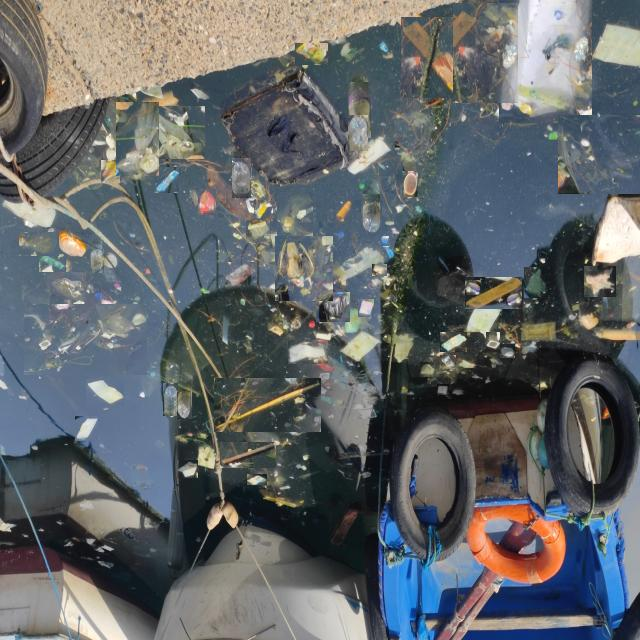Bottle cap: (94, 291, 105, 301), (308, 319, 316, 330), (381, 236, 389, 246), (114, 281, 122, 291), (337, 231, 345, 239), (134, 294, 142, 302), (47, 227, 55, 234), (150, 370, 156, 379), (359, 183, 365, 191)
Plastic: (499, 0, 592, 123)
Plastic bag: (116, 101, 159, 176), (145, 106, 205, 159), (277, 192, 313, 241), (50, 272, 86, 304), (316, 292, 350, 322), (584, 266, 616, 297), (19, 232, 59, 256), (524, 267, 548, 298), (246, 220, 270, 243), (420, 362, 435, 377)
Plastic bottle: (348, 82, 371, 138), (361, 194, 382, 235), (232, 158, 251, 198), (348, 115, 368, 151), (163, 383, 178, 416), (177, 391, 192, 419), (90, 248, 104, 272)
Plastic cup: (402, 171, 418, 197), (270, 230, 287, 248), (23, 312, 40, 328), (486, 332, 500, 350), (267, 322, 283, 337), (120, 334, 132, 352), (500, 344, 515, 358), (372, 264, 387, 276), (318, 370, 330, 384)
Plastic packaging: (331, 247, 384, 285), (347, 136, 394, 177), (339, 331, 380, 364), (85, 379, 124, 405), (520, 318, 557, 345), (288, 340, 328, 364), (225, 262, 257, 290), (295, 42, 328, 64), (155, 167, 179, 193), (75, 416, 98, 441), (196, 444, 216, 472), (440, 332, 467, 352), (502, 34, 518, 65), (39, 254, 66, 272), (198, 189, 216, 215), (101, 160, 120, 183), (254, 200, 273, 221), (176, 460, 198, 478), (494, 104, 514, 123), (189, 84, 209, 102), (458, 46, 476, 63), (358, 299, 374, 317), (318, 359, 334, 375), (440, 355, 456, 371), (465, 280, 481, 295), (247, 474, 267, 485), (437, 384, 449, 395)
Undefined trash: (217, 65, 362, 192), (24, 304, 147, 375), (453, 2, 518, 102), (558, 115, 640, 194), (275, 236, 333, 301), (591, 193, 640, 269), (335, 200, 352, 223)
Wood: (401, 17, 478, 98), (214, 378, 321, 432), (465, 277, 522, 309), (329, 502, 363, 551), (220, 442, 276, 468)
